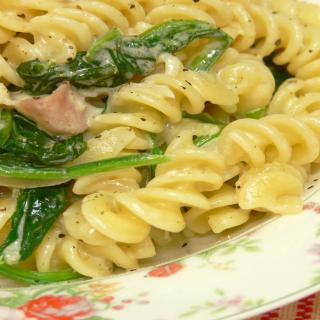Pasta: (0, 0, 320, 277)
